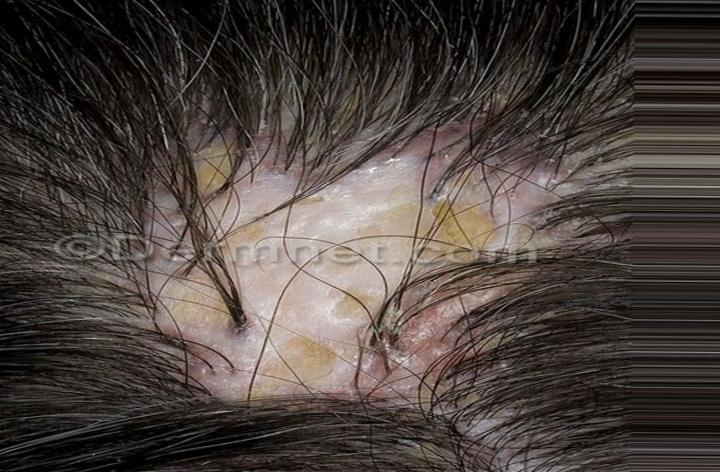Folliculitis: (150, 93, 518, 401)
